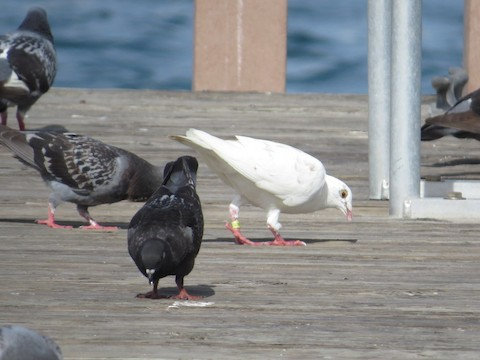pigeon: (167, 122, 365, 256), (6, 126, 195, 237), (122, 150, 216, 306), (2, 4, 60, 136)
